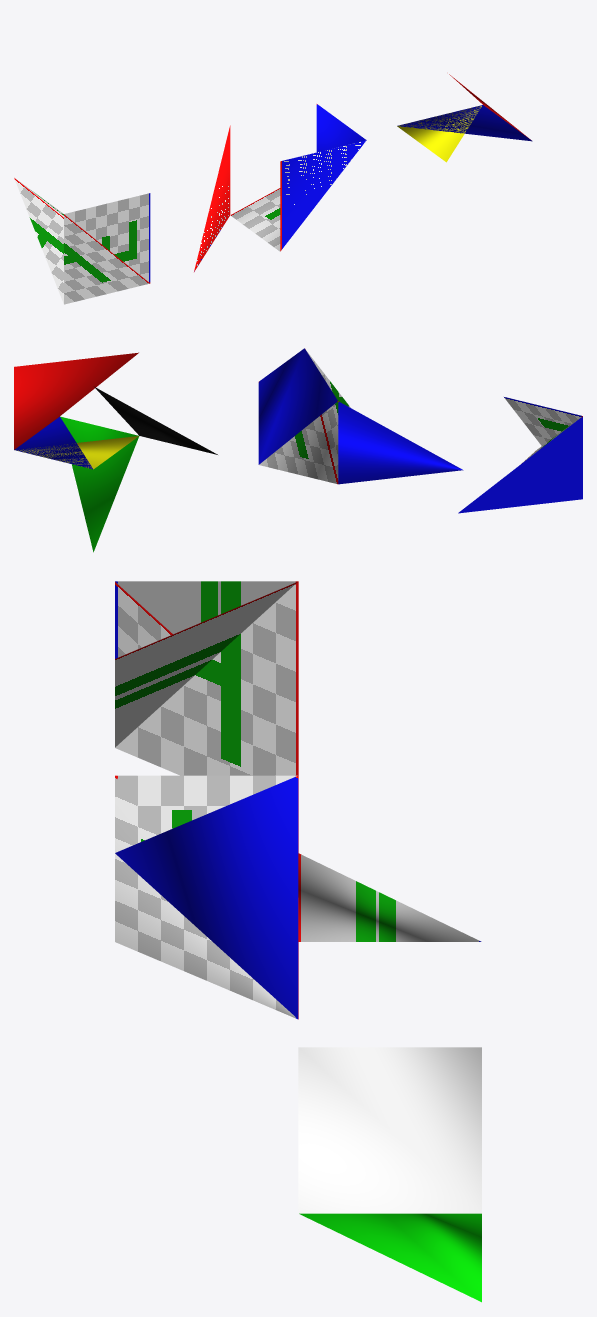
The model's file is cubes.glb.
The picture shows the model from 3 angles, top to bottom: view 1: azimuth 30°, elevation 25°; view 2: azimuth 150°, elevation 25°; view 3: azimuth 270°, elevation 25°; orthographic projection. The views are drawn at different scales.
Visible parts, largest first — view 1: C, A_body, B_2, B_4; view 2: A_body, C, B_3, B_5, B_2, B_0, B_4; view 3: A_body, C, B_1, B_5.
Boxes of the visible parts, x1,y1,x2,y2 form: C: (14,178,150,304); A_body: (194,104,366,271); B_2: (397,105,532,141); B_4: (397,106,481,162); A_body: (258,348,463,484); C: (458,397,582,513); B_3: (14,352,138,449); B_5: (60,416,139,552); B_2: (14,416,92,469); B_0: (94,386,217,454); B_4: (15,436,138,469); A_body: (115,775,481,1019); C: (115,581,298,775); B_1: (298,1047,481,1213); B_5: (299,1213,481,1302).
Size of the model in its own units: 6 by 2 by 2.
7 materials, 1 textured.
